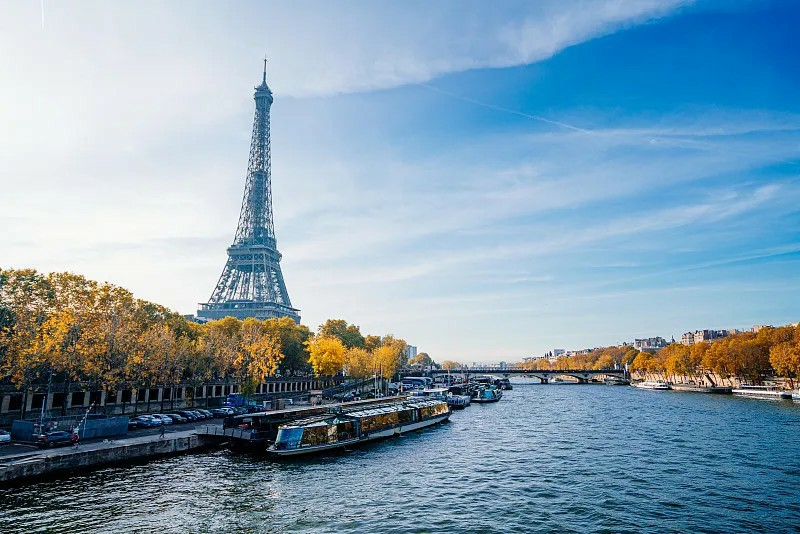Eiffel: (197, 53, 302, 326)
